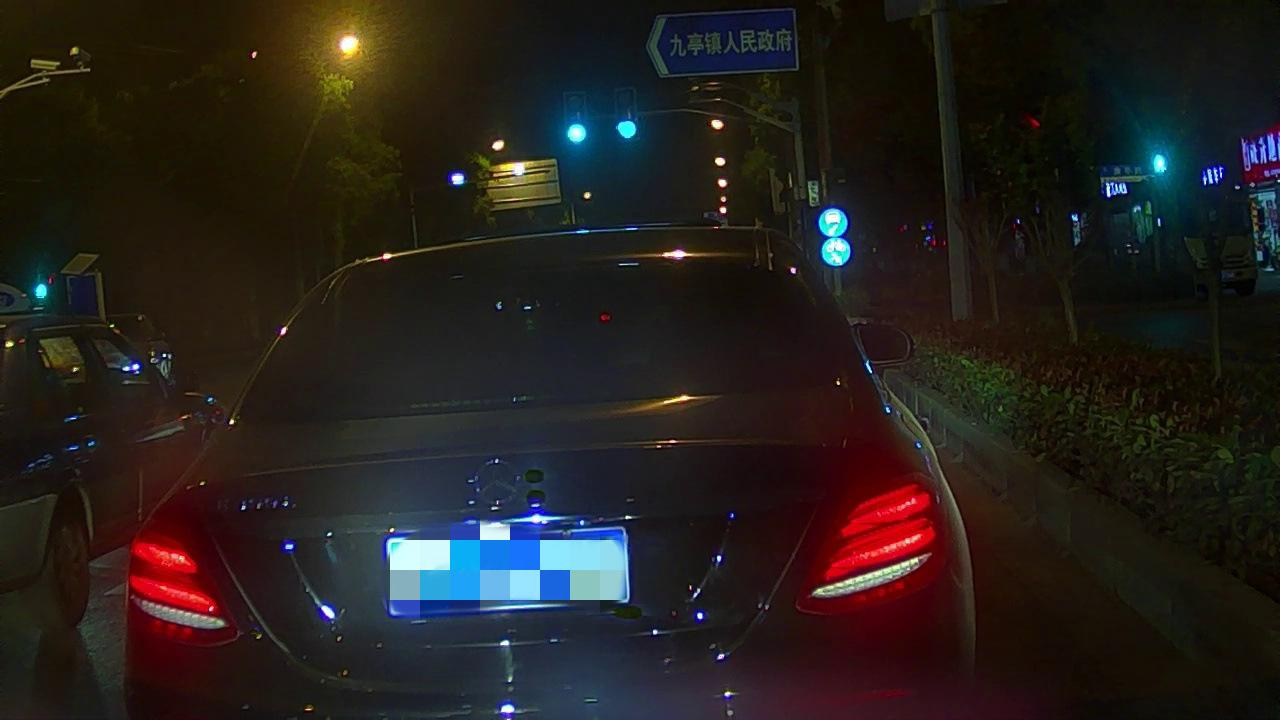traffic_light: (563, 94, 589, 147), (615, 91, 639, 143)
